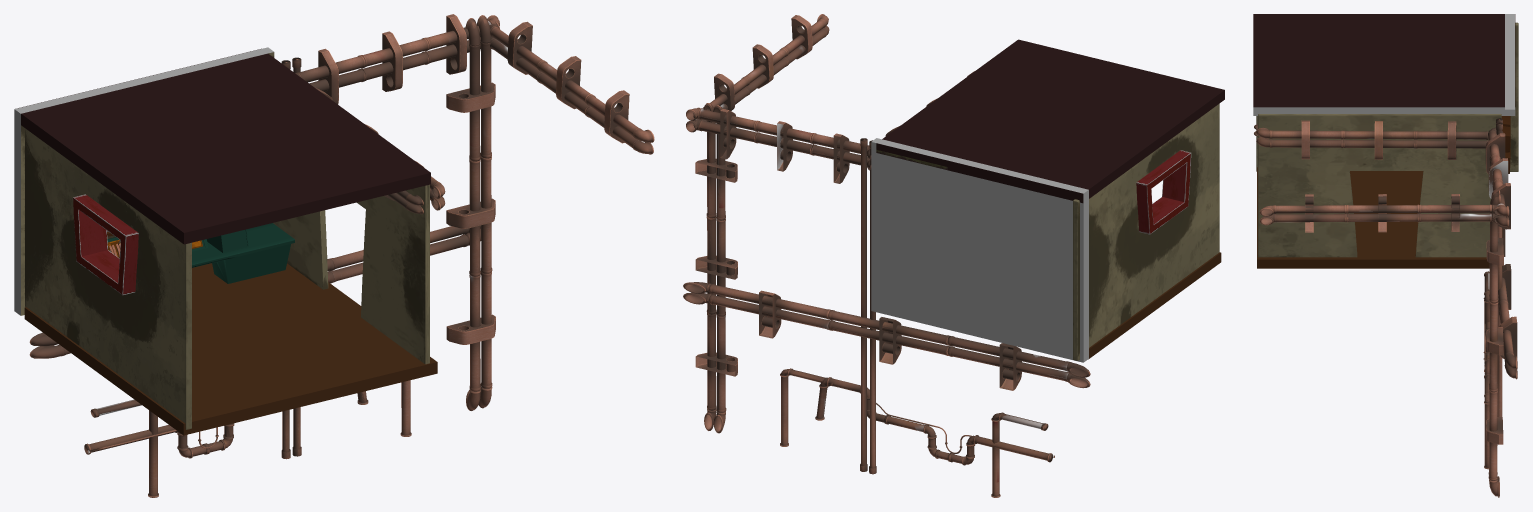
3 renders of one model, left to right at view 1: azimuth 30°, elevation 25°; view 2: azimuth 150°, elevation 25°; view 3: azimuth 270°, elevation 25°, orthographic. The views are drawn at different scales.
Visible parts, largest first — view 1: pCube216, polySurface188, straight_normalpipe1, FRST_Ground, Window, pCube133, polySurface188.001; view 2: polySurface188.001, straight_normalpipe1, pCube216, polySurface188, Window, FRST_Ground; view 3: pCube216, polySurface188, straight_normalpipe1, FRST_Ground, pCube216.002, polySurface188.001, TV.
Part boxes in pixels (left/top/right/bottom): pCube216: left=15, top=48, right=430, bottom=244; polySurface188: left=21, top=52, right=429, bottom=429; straight_normalpipe1: left=29, top=14, right=654, bottom=497; FRST_Ground: left=24, top=263, right=437, bottom=435; Window: left=73, top=194, right=138, bottom=295; pCube133: left=107, top=223, right=294, bottom=283; polySurface188.001: left=14, top=47, right=273, bottom=315; polySurface188.001: left=871, top=138, right=1088, bottom=362; straight_normalpipe1: left=683, top=14, right=1090, bottom=497; pCube216: left=876, top=39, right=1224, bottom=203; polySurface188: left=1073, top=103, right=1219, bottom=360; Window: left=1136, top=150, right=1191, bottom=234; FRST_Ground: left=1088, top=252, right=1221, bottom=359; pCube216: left=1253, top=14, right=1515, bottom=107; polySurface188: left=1256, top=22, right=1518, bottom=257; straight_normalpipe1: left=1254, top=118, right=1517, bottom=497; FRST_Ground: left=1257, top=167, right=1502, bottom=268; pCube216.002: left=1253, top=107, right=1515, bottom=115; polySurface188.001: left=1505, top=14, right=1514, bottom=109; TV: left=1501, top=116, right=1510, bottom=173.
Bounding box in the file's own units: 1860 × 1473 × 1133.
